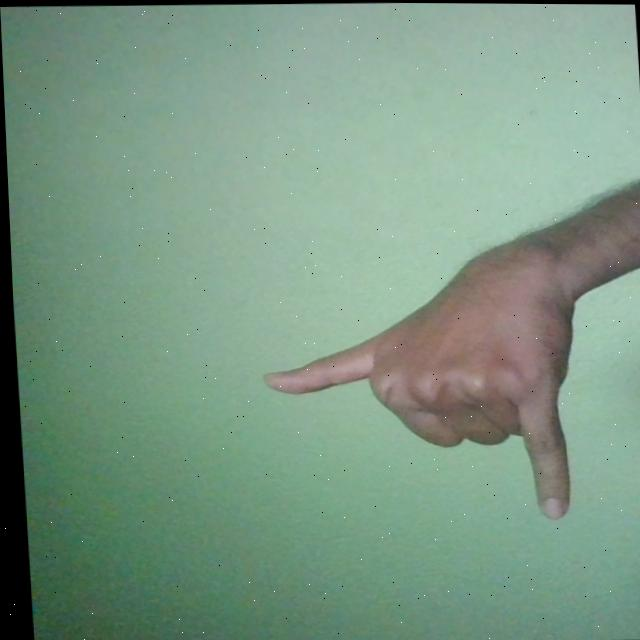Call Me: (250, 228, 583, 522)
